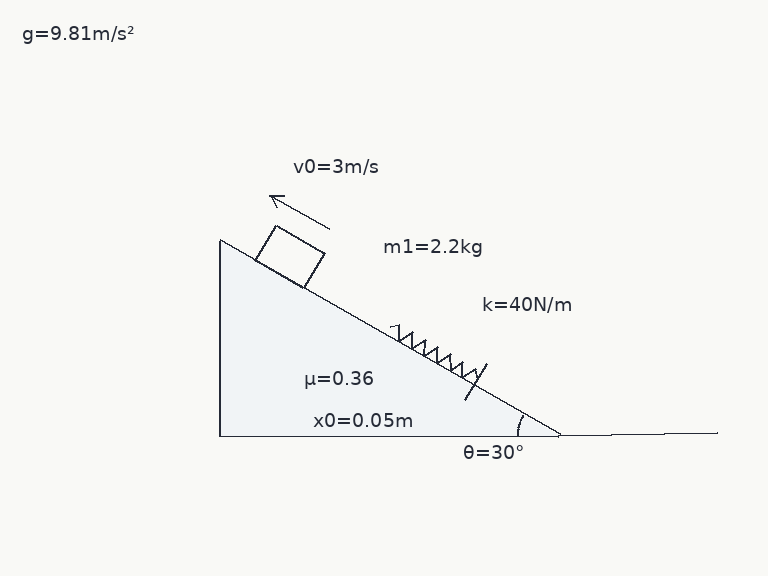block: (253, 223, 326, 290)
ramp: (218, 238, 560, 437)
spring: (388, 323, 480, 380)
